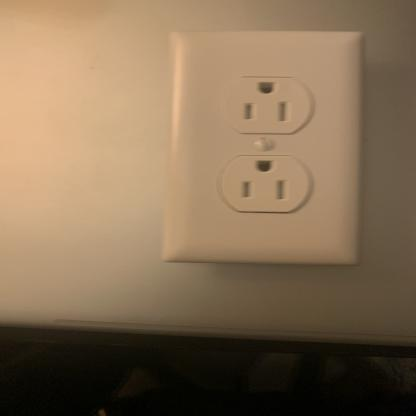OUTLET: (169, 30, 362, 262)
